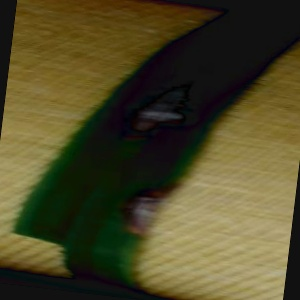Brown_Spot: (114, 57, 206, 153), (112, 177, 184, 242), (198, 22, 253, 64)
